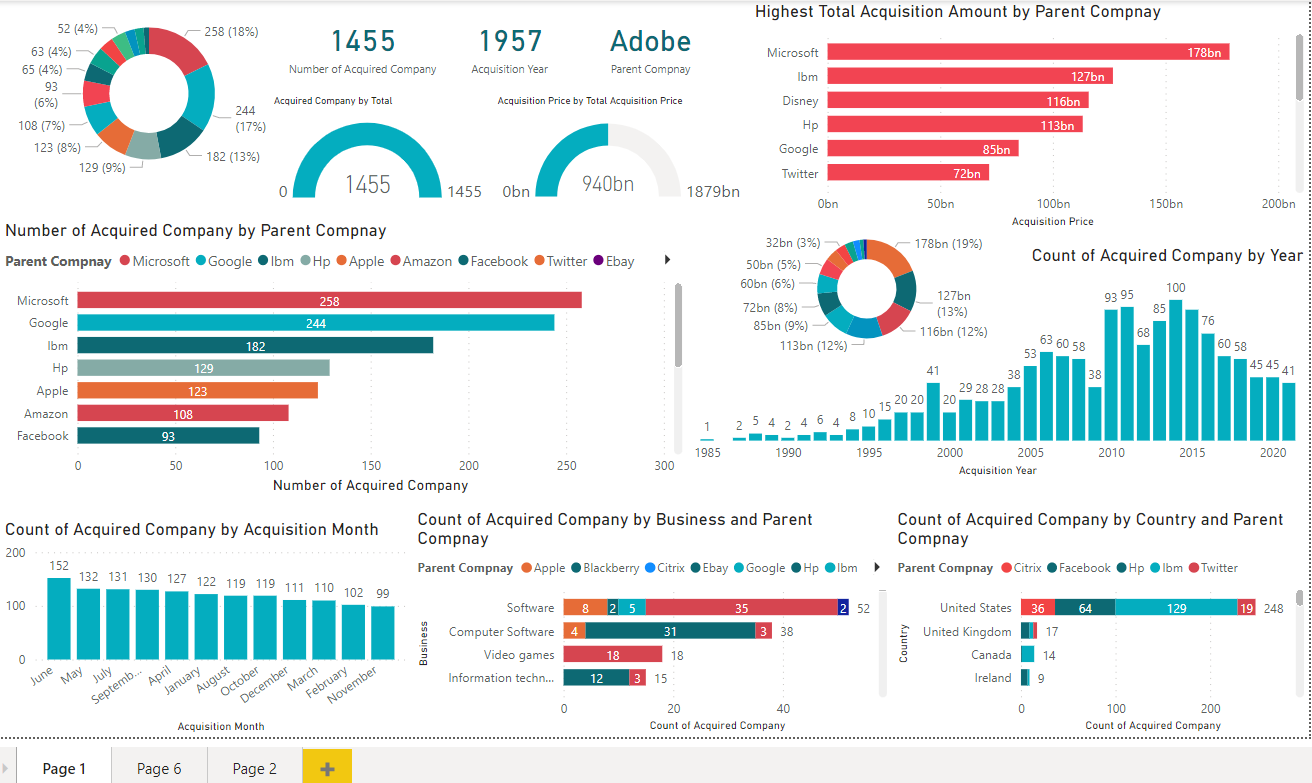

The dashboard page shown, as its layout file describes it:
{"tool":"powerbi","page":{"name":"Page 1","canvas":[1280,720],"ordinal":0},"visuals":[{"type":"barChart","title":"Number of Acquired Company by Parent Compnay","fields":{"Category":["acquisitions_update_2021.Parent_Company"],"Y":["CountNonNull(acquisitions_update_2021.Acquired_Company)"],"Series":["acquisitions_update_2021.Parent_Company"]},"box":[0,213.8,672.5,272.5],"z":0},{"type":"columnChart","fields":{"Category":["acquisitions_update_2021.Acquisition_Month"],"Y":["CountNonNull(acquisitions_update_2021.Acquired Company)"]},"box":[0,506.2,402.5,213.8],"z":1000},{"type":"clusteredColumnChart","title":"Count of Acquired Company by Year","fields":{"Category":["acquisitions_update_2021.Acquisition_Year"],"Y":["CountNonNull(acquisitions_update_2021.Acquired Company)"]},"box":[672.5,238.8,607.5,231.2],"z":2000},{"type":"barChart","fields":{"Category":["acquisitions_update_2021.Business"],"Series":["acquisitions_update_2021.Parent_Company"],"Y":["CountNonNull(acquisitions_update_2021.Acquired Company)"]},"box":[403.8,496.2,468.8,223.8],"z":3000},{"type":"donutChart","fields":{"Category":["acquisitions_update_2021.Parent Compnay"],"Y":["CountNonNull(acquisitions_update_2021.Acquired Company)"]},"box":[0,0,291.2,181.2],"z":4000},{"type":"card","fields":{"Values":["CountNonNull(acquisitions_update_2021.Acquired_Company)"]},"box":[266.5,0,176.2,87.5],"z":4000,"group":"g1"},{"type":"card","fields":{"Values":["Min(acquisitions_update_2021.Acquisition_Year)"]},"box":[426.5,0,143.8,87.5],"z":5000,"group":"g1"},{"type":"barChart","title":"Highest Total Acquisition Amount by Parent Compnay","fields":{"Category":["acquisitions_update_2021.Parent_Company"],"Y":["Sum(acquisitions_update_2021.Acquisition Price)"]},"box":[733.8,0,546.2,226.2],"z":5000},{"type":"card","fields":{"Values":["Min(acquisitions_update_2021.Parent_Company)"]},"box":[553.9,0,165,87.5],"z":6000,"group":"g1"},{"type":"barChart","fields":{"Category":["acquisitions_update_2021.Country"],"Y":["CountNonNull(acquisitions_update_2021.Acquired_Company)"],"Series":["acquisitions_update_2021.Parent_Company"]},"box":[872.5,496.2,407.5,223.8],"z":6000},{"type":"group","id":"g1","title":"Group 1","box":[262.7,0,471.2,213.8],"z":7000},{"type":"gauge","title":"Acquired Company by Total ","fields":{"Y":["CountNonNull(acquisitions_update_2021.Acquired Company)"],"MaxValue":["acquisitions_update_2021.Total Company Acquired"]},"box":[262.7,91.2,218.8,122.5],"z":8000,"group":"g1"},{"type":"donutChart","title":"Acquisition Price","fields":{"Category":["acquisitions_update_2021.Parent Compnay"],"Y":["Sum(acquisitions_update_2021.Acquisition Price)"]},"box":[718.8,213.9,257.9,135.7],"z":8000},{"type":"gauge","title":"Acquisition Price by Total Acquisition Price","fields":{"Y":["Sum(acquisitions_update_2021.Acquisition Price)"],"MaxValue":["acquisitions_update_2021.Total Acquisition Price"]},"box":[481.5,91.2,252.5,122.5],"z":11000,"group":"g1"}]}

Visuals, with their boxes on the page's 1280x720 design canvas (x1, y1, x2, y2). These are canvas units, not pixel positions in the 1312x783 screenshot, which may show the page scaled, cropped or inside an application window:
"Number of Acquired Company by Parent Compnay" barChart: 0 214 672 486
columnChart - acquisitions_update_2021.Acquisition_Month x CountNonNull(acquisitions_update_2021.Acquired Company): 0 506 402 720
"Count of Acquired Company by Year" clusteredColumnChart: 672 239 1280 470
barChart - acquisitions_update_2021.Business x acquisitions_update_2021.Parent_Company: 404 496 873 720
donutChart - acquisitions_update_2021.Parent Compnay x CountNonNull(acquisitions_update_2021.Acquired Company): 0 0 291 181
card - CountNonNull(acquisitions_update_2021.Acquired_Company): 266 0 443 88
card - Min(acquisitions_update_2021.Acquisition_Year): 426 0 570 88
"Highest Total Acquisition Amount by Parent Compnay" barChart: 734 0 1280 226
card - Min(acquisitions_update_2021.Parent_Company): 554 0 719 88
barChart - acquisitions_update_2021.Country x CountNonNull(acquisitions_update_2021.Acquired_Company): 872 496 1280 720
"Group 1" group: 263 0 734 214
"Acquired Company by Total " gauge: 263 91 482 214
"Acquisition Price" donutChart: 719 214 977 350
"Acquisition Price by Total Acquisition Price" gauge: 482 91 734 214
